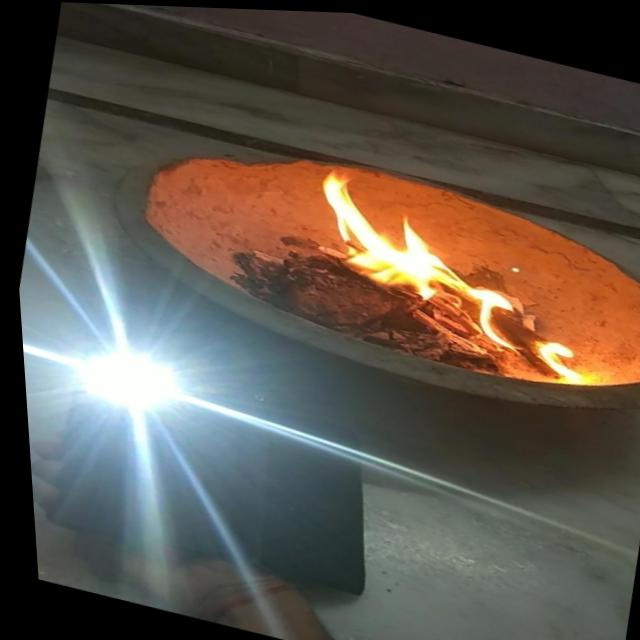fire: (271, 159, 607, 381)
